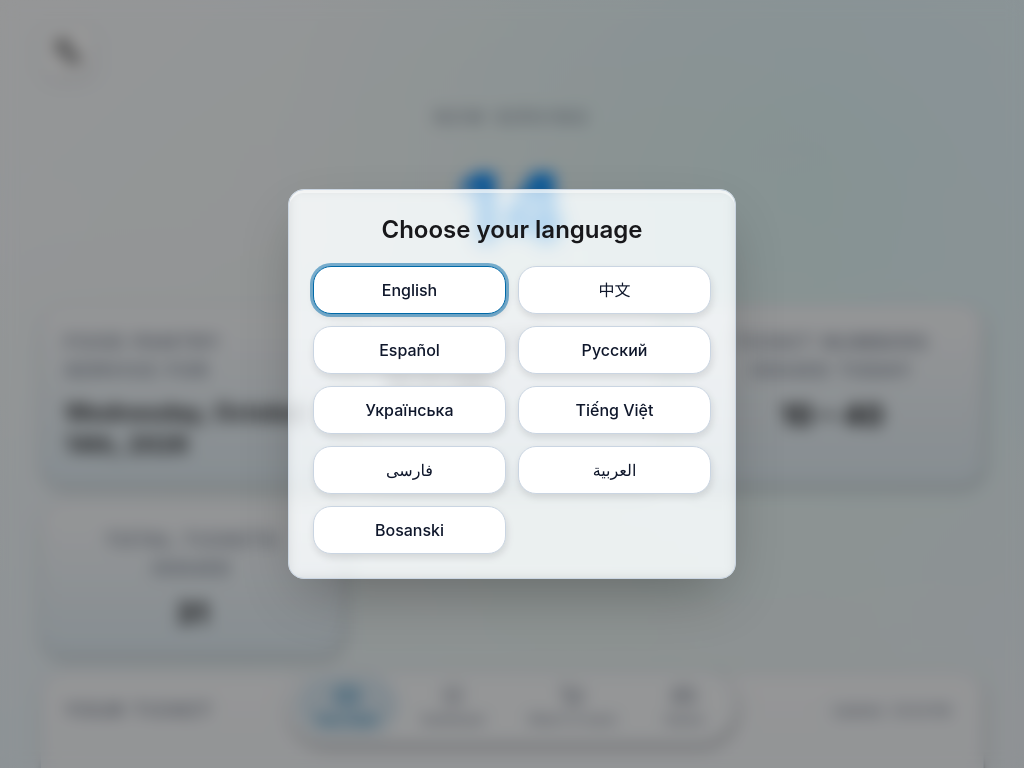
Test: homepage ticket persistence › offers only ready dynamic languages without starting a readiness polling loop
Click the button "Bosanski".
click(410, 530)  # box [313,506,506,554]
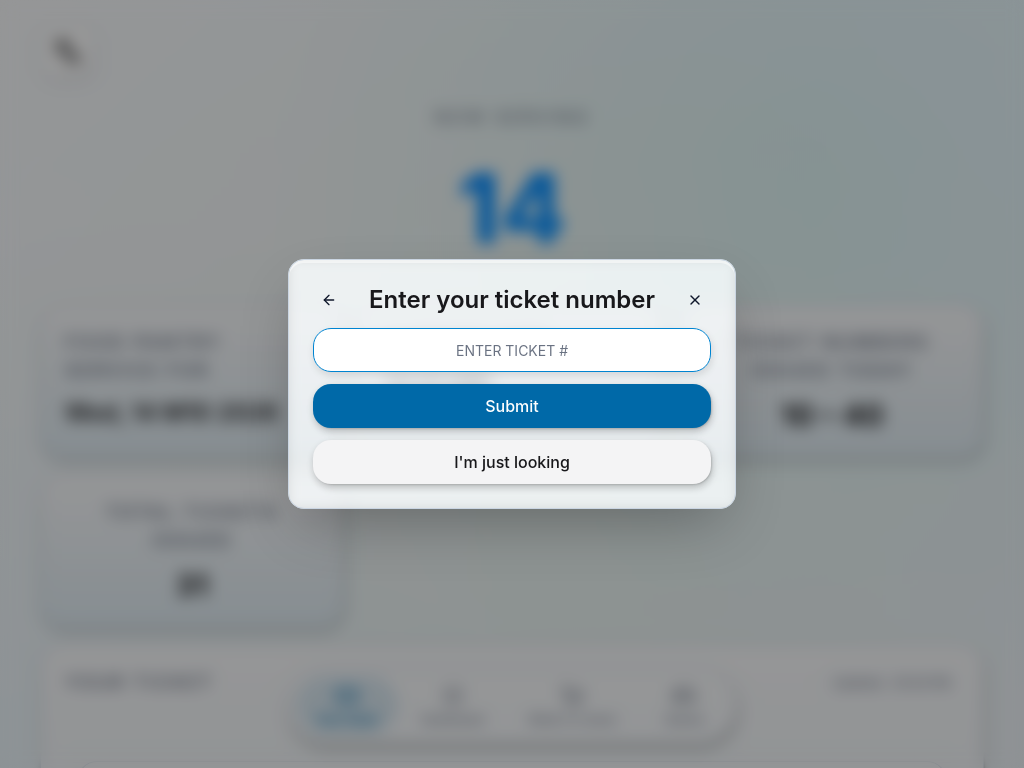
Expected: the field named "Enter your ticket number" is shown, [313,328,711,372]
